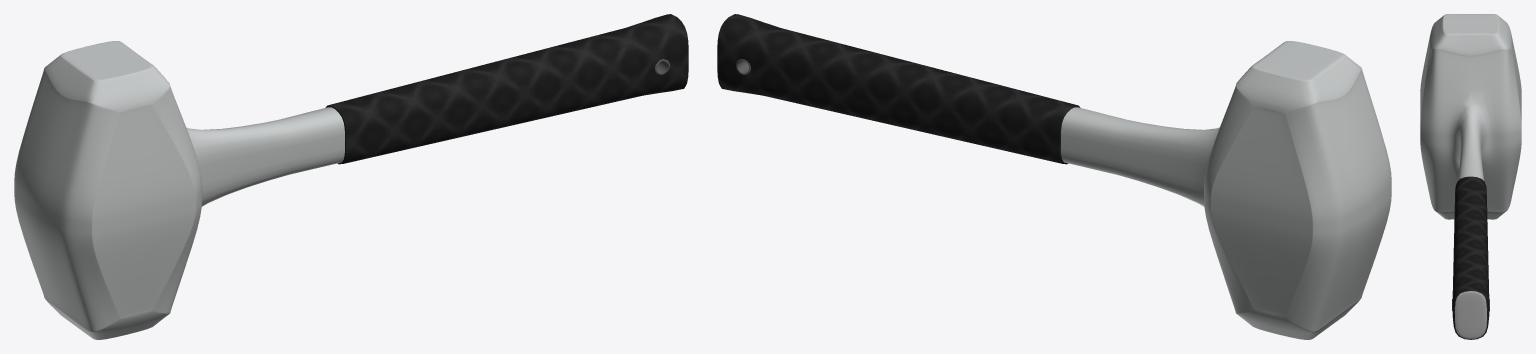
File: Mallet.fbx
3 views of the same model, side by side, from view 1: azimuth 30°, elevation 25°; view 2: azimuth 150°, elevation 25°; view 3: azimuth 270°, elevation 25° (orthographic). The views are drawn at different scales.
Visible parts, largest first — view 1: Mallet; view 2: Mallet; view 3: Mallet.
Boxes of the visible parts, left/top/right/bottom form: Mallet: left=14, top=14, right=688, bottom=339; Mallet: left=717, top=14, right=1391, bottom=339; Mallet: left=1420, top=14, right=1521, bottom=339.
Size of the model in its own units: 0.9774 by 0.3766 by 0.1869.
1 material, 1 textured.
